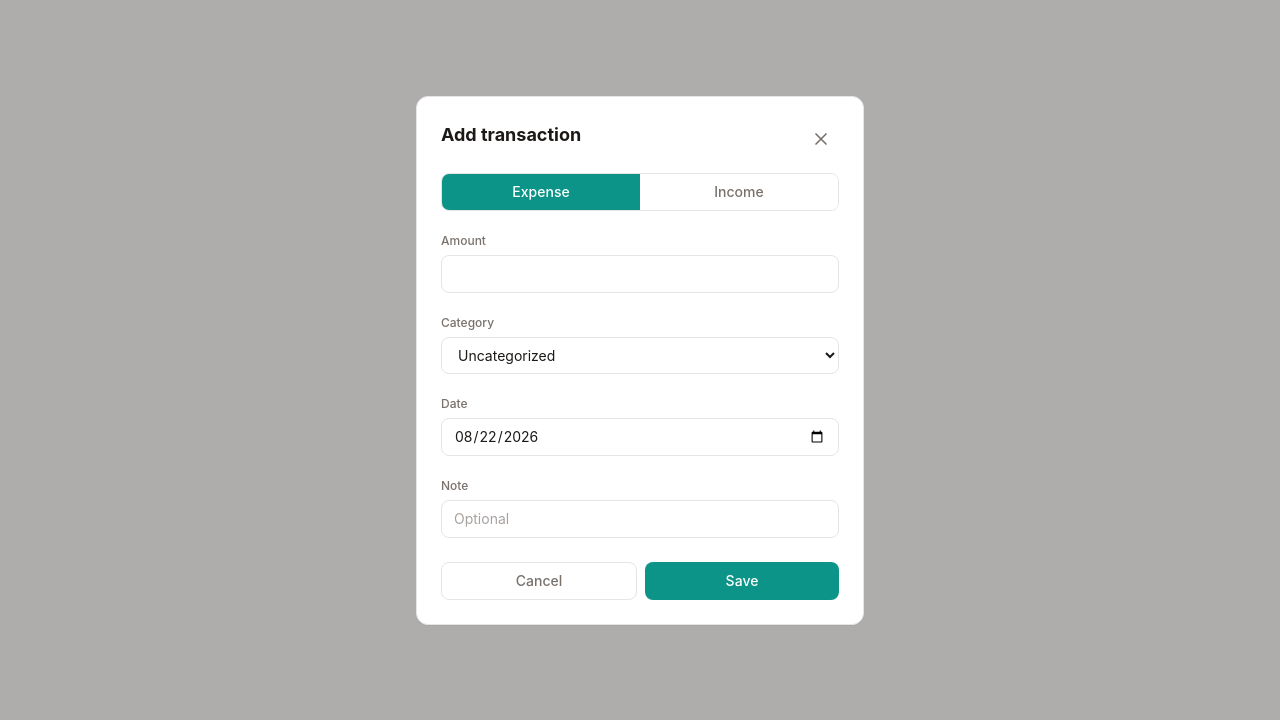
TransactionFormDialog — add mode › disables Save while the request is in flight
Type "10" into the number field labelled "Amount" at (640, 274), box [441, 254, 839, 292]
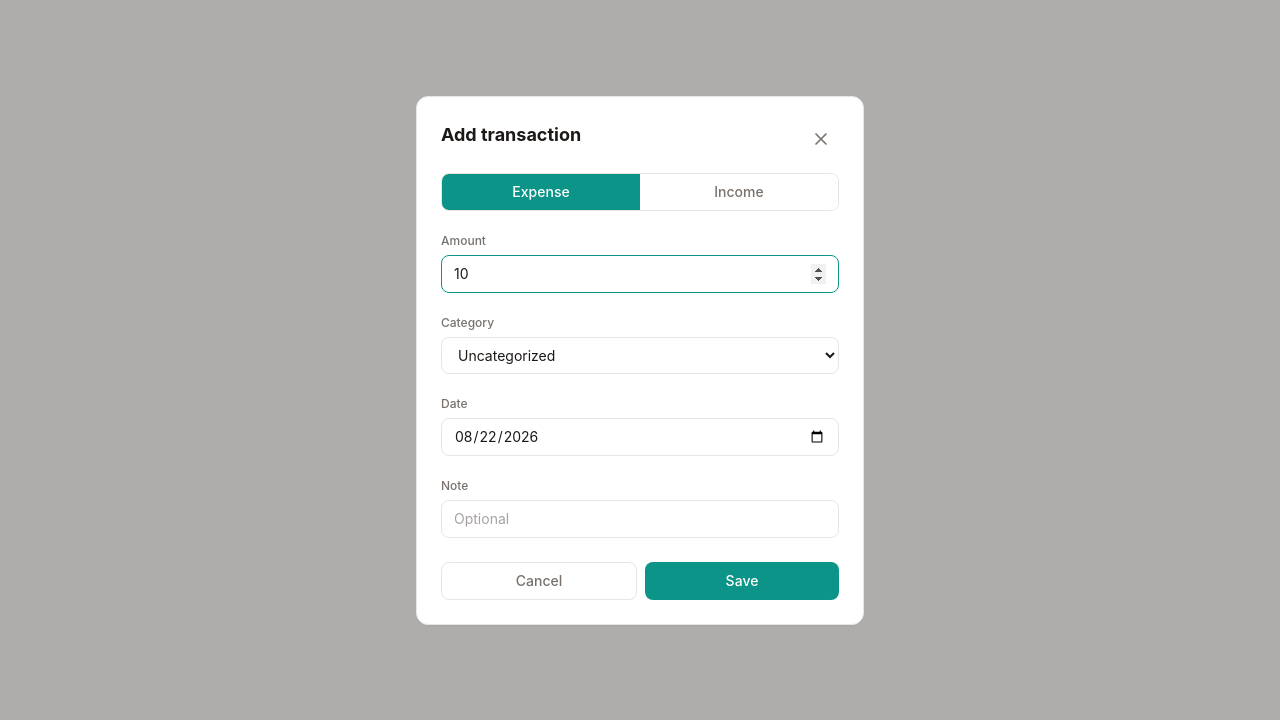
Click the button "Save" at (742, 580), box [645, 562, 839, 600]
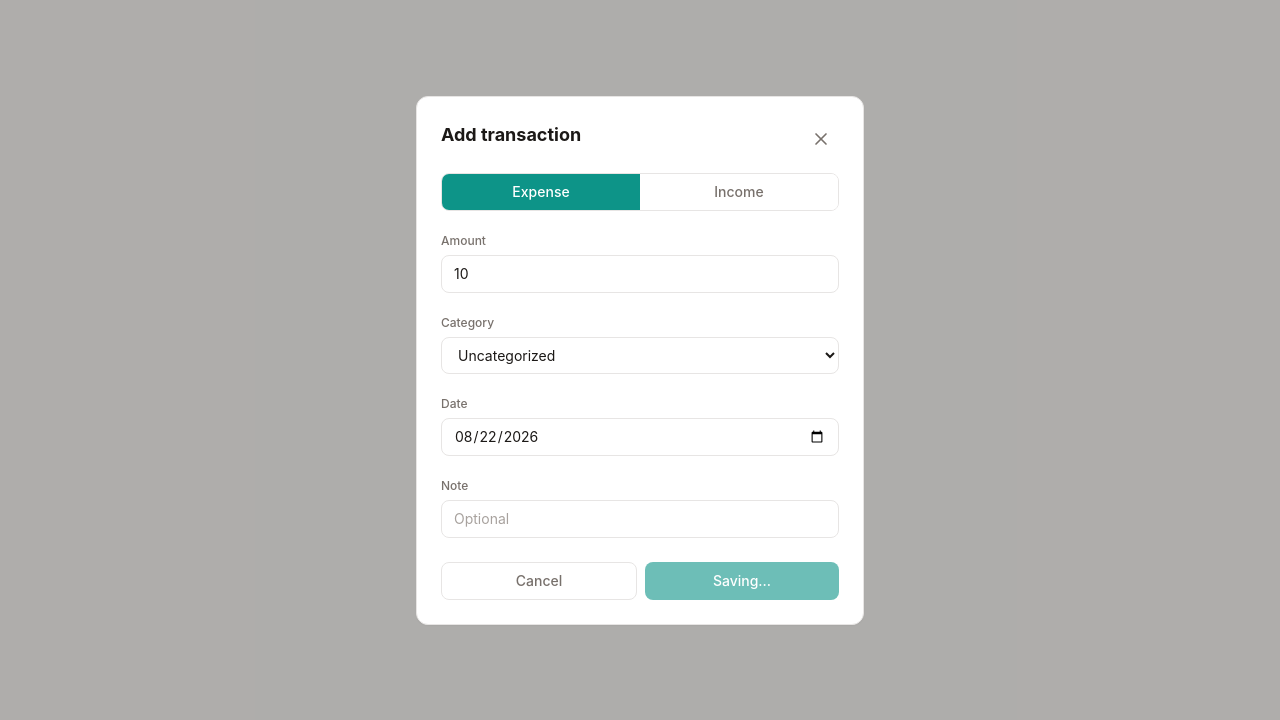
Expected: the button "Saving..." is disabled, [645, 562, 839, 600]
